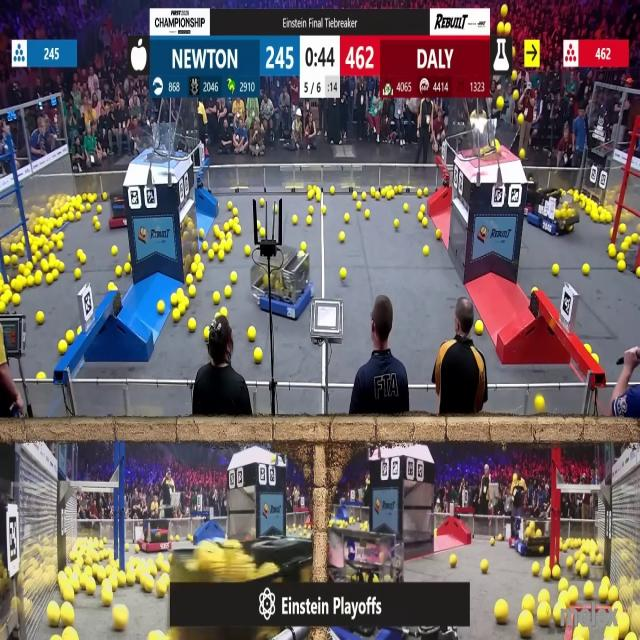ball_airborne: (496, 98, 504, 110), (500, 4, 508, 16), (497, 24, 504, 35), (494, 142, 500, 154), (514, 91, 520, 101), (520, 148, 526, 158), (518, 114, 524, 123), (504, 24, 509, 34), (513, 71, 518, 80)
ball_ground: (518, 614, 534, 638), (113, 607, 126, 632), (495, 601, 508, 623), (47, 606, 59, 628), (62, 607, 75, 627), (537, 609, 549, 628), (572, 627, 588, 640), (144, 576, 156, 592), (158, 582, 169, 598), (102, 591, 113, 606), (554, 609, 563, 627), (585, 584, 595, 600), (568, 588, 578, 604), (64, 629, 78, 640), (63, 588, 74, 602), (598, 588, 608, 603), (87, 581, 97, 596), (523, 596, 533, 610), (608, 588, 617, 603), (127, 572, 137, 585), (535, 396, 544, 410), (59, 341, 68, 355), (254, 348, 262, 363), (558, 580, 568, 592), (15, 277, 24, 290), (248, 326, 256, 340), (474, 321, 482, 335), (67, 329, 75, 343), (117, 572, 125, 586), (608, 245, 616, 258), (36, 312, 44, 325), (187, 319, 195, 332), (554, 566, 562, 579), (538, 591, 547, 602), (450, 555, 458, 567), (187, 285, 195, 297), (41, 261, 49, 273), (579, 564, 587, 576), (541, 568, 549, 580), (47, 260, 55, 272), (73, 581, 81, 593), (482, 560, 489, 573), (35, 273, 42, 286), (163, 562, 171, 573), (553, 265, 560, 277), (224, 286, 231, 298), (12, 293, 19, 305), (213, 291, 220, 303), (532, 563, 539, 575), (173, 310, 180, 322), (111, 579, 118, 591), (218, 308, 226, 318), (148, 632, 158, 640), (178, 304, 186, 314), (149, 566, 157, 576), (619, 262, 626, 273), (115, 267, 122, 278), (341, 269, 348, 280), (231, 273, 238, 284), (45, 273, 52, 284), (566, 557, 573, 568), (584, 265, 590, 277), (159, 302, 165, 314), (53, 271, 61, 280), (65, 212, 73, 221), (185, 275, 192, 285), (235, 224, 242, 234), (244, 246, 251, 256), (1, 292, 8, 302), (599, 212, 606, 222), (172, 294, 178, 305), (60, 263, 66, 274), (0, 303, 6, 314), (195, 271, 201, 282), (28, 276, 34, 287), (225, 241, 231, 252), (205, 327, 210, 340), (622, 244, 630, 252), (632, 235, 639, 244), (223, 222, 230, 231), (17, 265, 24, 274), (75, 270, 81, 280), (340, 233, 346, 243), (435, 231, 441, 241), (423, 246, 429, 256), (79, 253, 85, 263), (203, 242, 209, 252), (218, 250, 224, 260), (620, 223, 626, 233), (123, 265, 129, 275), (4, 255, 10, 265), (108, 282, 114, 292), (36, 370, 42, 380), (11, 254, 17, 264), (11, 280, 17, 290), (605, 212, 611, 222), (213, 226, 219, 236), (17, 244, 23, 254), (387, 190, 394, 198), (619, 252, 626, 260), (27, 264, 34, 272), (86, 205, 94, 212), (198, 265, 205, 273), (111, 246, 117, 255), (58, 241, 64, 250), (299, 242, 305, 251), (356, 202, 362, 211), (177, 287, 183, 296), (32, 254, 38, 263), (48, 241, 54, 250), (209, 250, 214, 260), (200, 230, 205, 240), (538, 544, 543, 554), (259, 230, 265, 238), (363, 210, 369, 218), (308, 191, 314, 199), (422, 218, 428, 226), (193, 254, 199, 262), (76, 212, 82, 220), (59, 234, 65, 242), (94, 215, 100, 223), (544, 558, 550, 566), (225, 232, 231, 240), (586, 207, 592, 215), (292, 215, 297, 224), (345, 213, 350, 222), (403, 204, 408, 213), (213, 240, 218, 249), (227, 202, 232, 211), (190, 265, 195, 274), (418, 212, 423, 221), (376, 190, 381, 199), (76, 326, 81, 335), (420, 205, 426, 212), (50, 235, 56, 242), (234, 217, 240, 224), (308, 216, 313, 224), (321, 207, 326, 215), (96, 222, 101, 230), (394, 218, 398, 228), (309, 207, 314, 215), (636, 268, 640, 278), (316, 192, 321, 200), (361, 192, 366, 200), (329, 186, 334, 194), (234, 208, 239, 216), (123, 542, 128, 550), (0, 277, 4, 287), (587, 345, 592, 353), (127, 254, 133, 260), (352, 191, 357, 198), (103, 192, 108, 199), (423, 188, 428, 195), (98, 206, 102, 214), (262, 201, 266, 209), (418, 188, 422, 196), (136, 544, 140, 552), (275, 206, 279, 214), (256, 220, 260, 228), (90, 192, 94, 200), (498, 534, 503, 540), (51, 635, 57, 640), (187, 534, 192, 540), (491, 538, 495, 544), (176, 536, 180, 542)
goal: (466, 118, 524, 159), (130, 130, 188, 160)
robot_blue: (252, 247, 314, 320), (529, 188, 578, 238), (509, 516, 550, 556)
robot_red: (138, 516, 170, 552), (108, 192, 127, 228)
